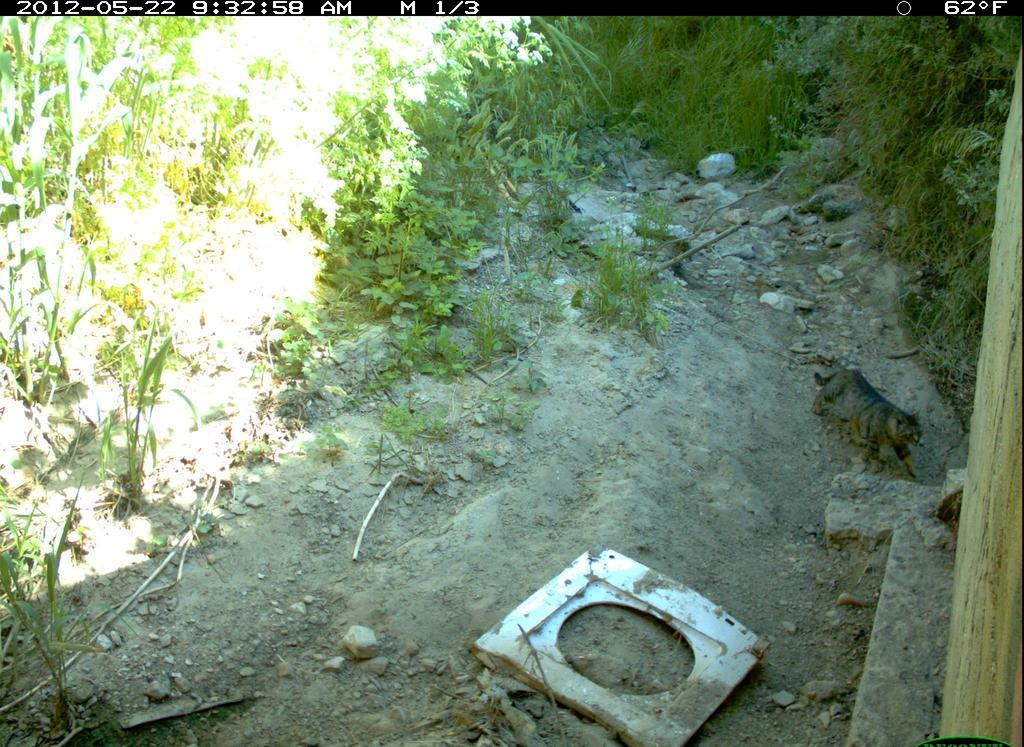cat: (803, 344, 932, 487)
